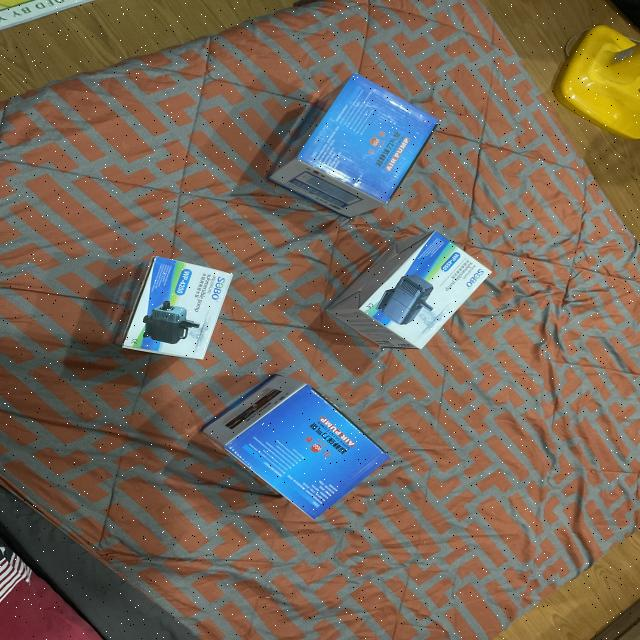SOBO_WP_4200: (314, 222, 492, 354), (102, 244, 240, 364)
YAMANO_LPP_20: (188, 364, 398, 514), (248, 71, 430, 219)
